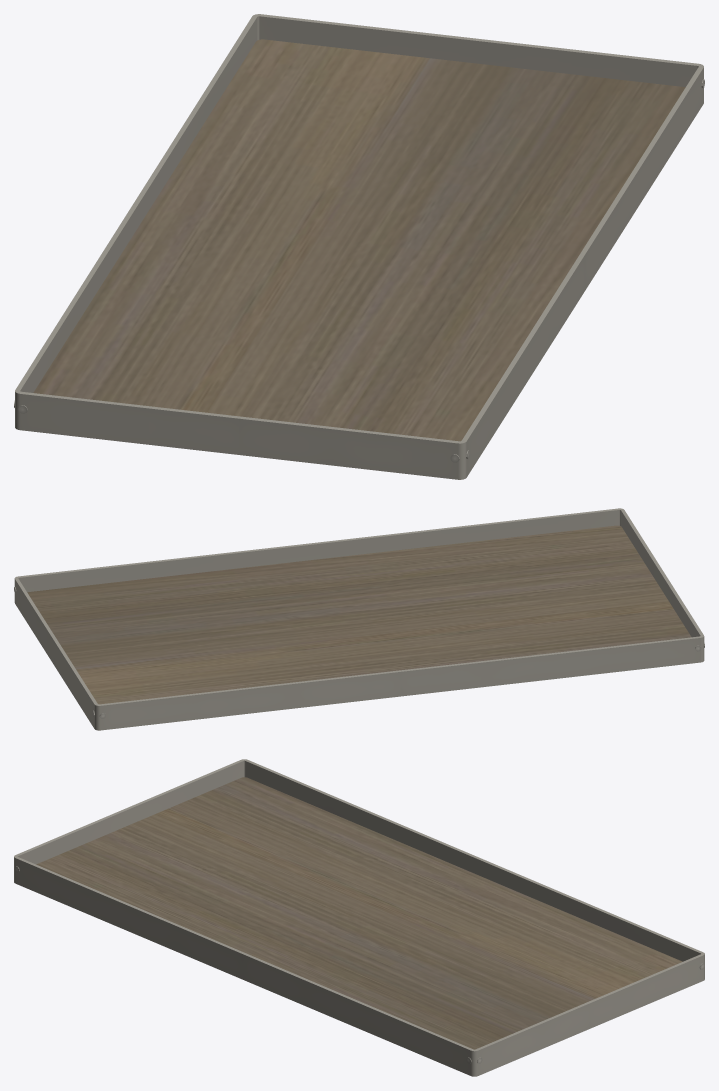
File: top_0101_w800_d400.glb
The picture shows the model from 3 angles, top to bottom: view 1: azimuth 30°, elevation 25°; view 2: azimuth 150°, elevation 25°; view 3: azimuth 270°, elevation 25°; orthographic projection. The views are drawn at different scales.
Visible parts, largest first — view 1: top_shelf_0101_w800_d400, top_frame_0101_w800_d400; view 2: top_shelf_0101_w800_d400, top_frame_0101_w800_d400; view 3: top_shelf_0101_w800_d400, top_frame_0101_w800_d400.
Boxes of the visible parts, left/top/right/bottom form: top_shelf_0101_w800_d400: left=33, top=39, right=685, bottom=441; top_frame_0101_w800_d400: left=14, top=14, right=704, bottom=479; top_shelf_0101_w800_d400: left=27, top=525, right=691, bottom=704; top_frame_0101_w800_d400: left=14, top=508, right=704, bottom=730; top_shelf_0101_w800_d400: left=36, top=777, right=682, bottom=1049; top_frame_0101_w800_d400: left=14, top=759, right=704, bottom=1076.
Bounding box in the file's own units: 0.8407 × 0.0343 × 0.8407.
2 materials, 2 textured.
